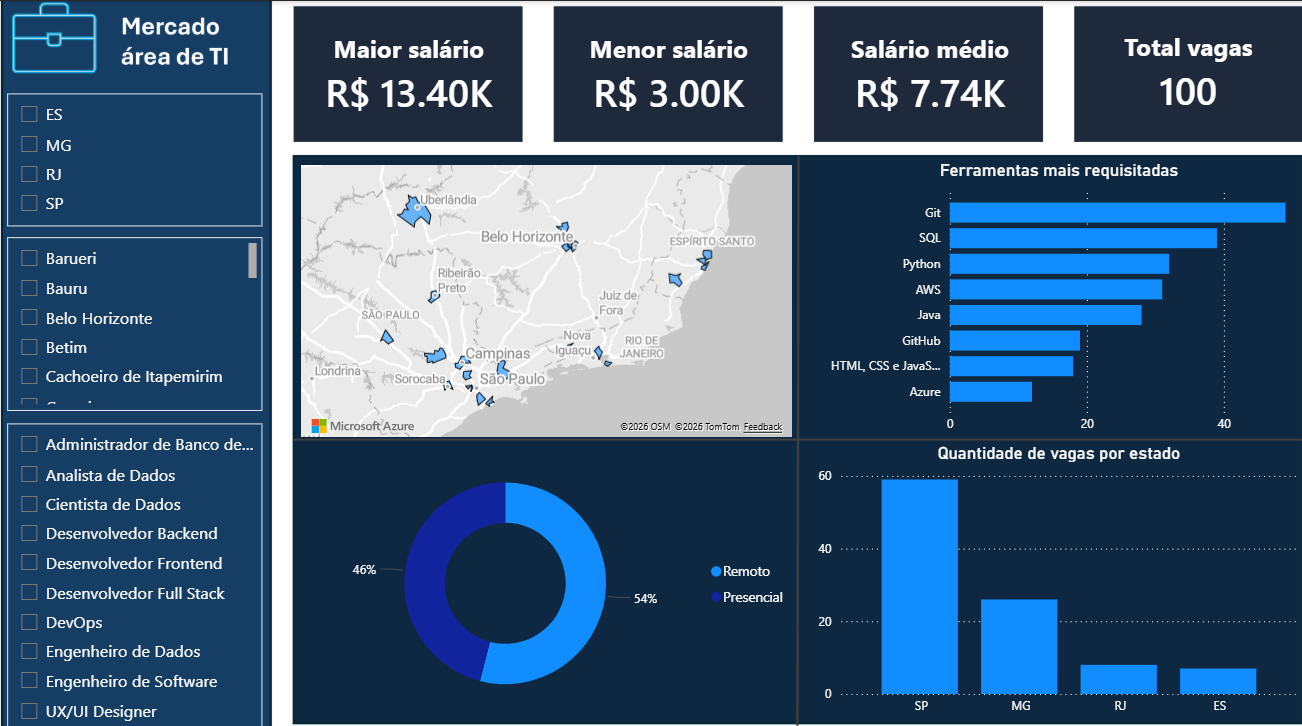

What the dashboard file says about the page in this screenshot:
{"tool":"powerbi","page":{"name":"Page 1","canvas":[1280,720],"ordinal":0},"visuals":[{"type":"slicer","fields":{"Values":["localizacao.estado"]},"box":[6.1,90.8,250.3,130.1],"z":0},{"type":"slicer","fields":{"Values":["funcao.nome_funcao"]},"box":[6.1,414.7,250.3,305.5],"z":1000},{"type":"cardVisual","fields":{"Data":["vaga.Maior_salário"]},"box":[289.6,0,224.5,137.4],"z":2000},{"type":"cardVisual","fields":{"Data":["vaga.Menor_salário"]},"box":[565.6,11,177.9,115.3],"z":3000},{"type":"cardVisual","fields":{"Data":["vaga.Salário_médio"]},"box":[797.6,3.7,233.1,133.7],"z":4000},{"type":"clusteredColumnChart","title":"Quantidade de vagas por estado","fields":{"Y":["vaga.Total_vagas"],"Category":["localizacao.estado"]},"box":[797.6,433.1,482.2,277.3],"z":5000},{"type":"clusteredBarChart","title":"Ferramentas mais requisitadas","fields":{"Category":["habilidade.nome_habilidade"],"Y":["CountNonNull(vaga_habilidade.id_habilidade)"]},"box":[797.6,155.8,482.2,277.3],"z":6000},{"type":"cardVisual","fields":{"Data":["vaga.Total_vagas"]},"box":[1051.5,3.7,228.2,133.7],"z":8000},{"type":"donutChart","fields":{"Category":["modalidade.nome_modalidade"],"Y":["vaga.Total_vagas"]},"box":[289.6,433.1,492,277.3],"z":9000},{"type":"filledMap","fields":{"Category":["localizacao.cidade"]},"box":[289.6,155.8,492,277.3],"z":10000},{"type":"slicer","fields":{"Values":["localizacao.cidade"]},"box":[6.1,231.9,250.3,170.6],"z":10001}]}

Visuals, with their boxes in screenshot pixels (x1, y1, x2, y2), scaled from the page's 1280x720 canvas onto the 1302x726 screenshot:
slicer - localizacao.estado: {"x1": 6, "y1": 92, "x2": 261, "y2": 223}
slicer - funcao.nome_funcao: {"x1": 6, "y1": 418, "x2": 261, "y2": 725}
cardVisual - vaga.Maior_salário: {"x1": 295, "y1": 0, "x2": 523, "y2": 139}
cardVisual - vaga.Menor_salário: {"x1": 575, "y1": 11, "x2": 756, "y2": 127}
cardVisual - vaga.Salário_médio: {"x1": 811, "y1": 4, "x2": 1048, "y2": 139}
"Quantidade de vagas por estado" clusteredColumnChart: {"x1": 811, "y1": 437, "x2": 1301, "y2": 716}
"Ferramentas mais requisitadas" clusteredBarChart: {"x1": 811, "y1": 157, "x2": 1301, "y2": 437}
cardVisual - vaga.Total_vagas: {"x1": 1070, "y1": 4, "x2": 1301, "y2": 139}
donutChart - modalidade.nome_modalidade x vaga.Total_vagas: {"x1": 295, "y1": 437, "x2": 795, "y2": 716}
filledMap - localizacao.cidade: {"x1": 295, "y1": 157, "x2": 795, "y2": 437}
slicer - localizacao.cidade: {"x1": 6, "y1": 234, "x2": 261, "y2": 406}
